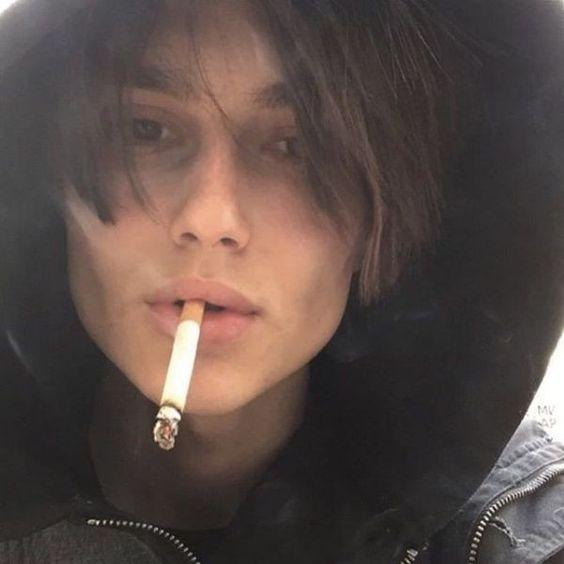cigarette: (153, 301, 205, 449)
